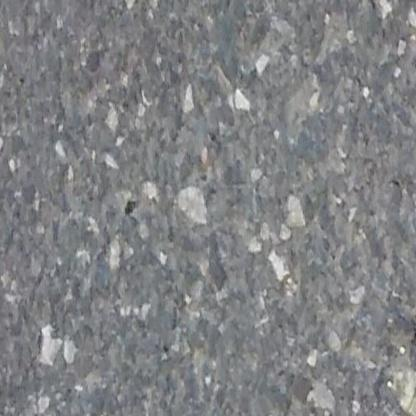Cracks: (369, 366, 416, 416), (388, 304, 416, 354)
